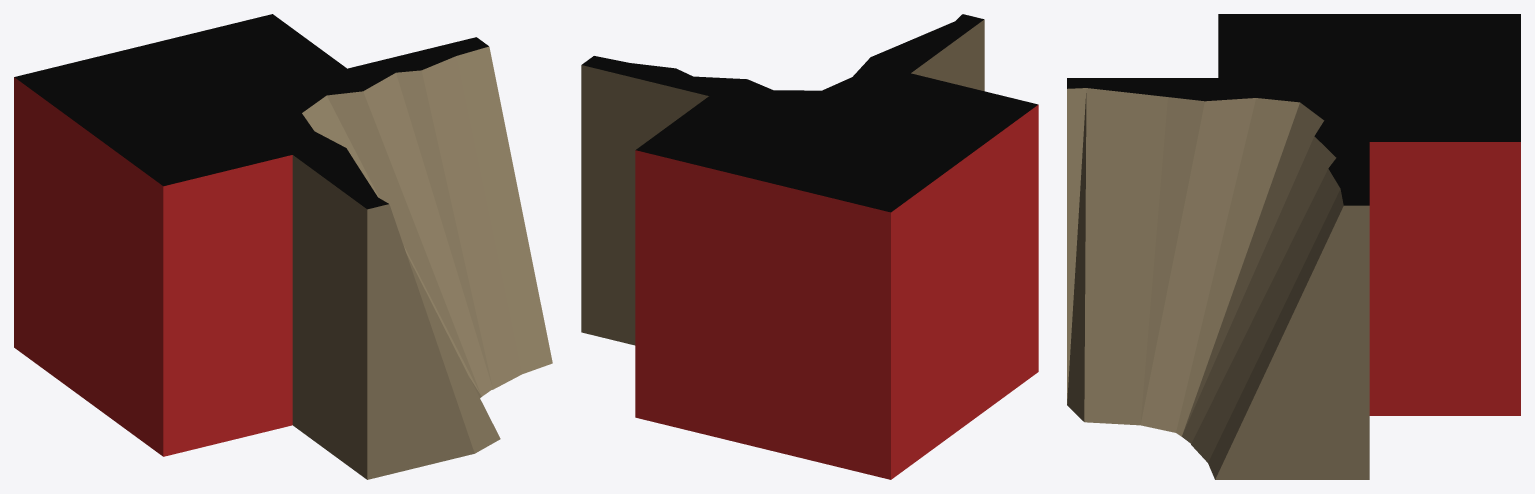
Rendered from Model_Horde_Slope_4S_1PTR.fbx.
The picture shows the model from 3 angles, left to right: view 1: azimuth 30°, elevation 25°; view 2: azimuth 150°, elevation 25°; view 3: azimuth 270°, elevation 25°; orthographic projection. The views are drawn at different scales.
Parts seen in each view (by area): view 1: Model_Frost_Obstacle3; view 2: Model_Frost_Obstacle3; view 3: Model_Frost_Obstacle3.
Boxes of the visible parts, x1,y1,x2,y2 form: Model_Frost_Obstacle3: (14, 14, 552, 479); Model_Frost_Obstacle3: (581, 14, 1038, 479); Model_Frost_Obstacle3: (1067, 14, 1520, 479).
Bounding box in the file's own units: 300 × 200 × 300.
